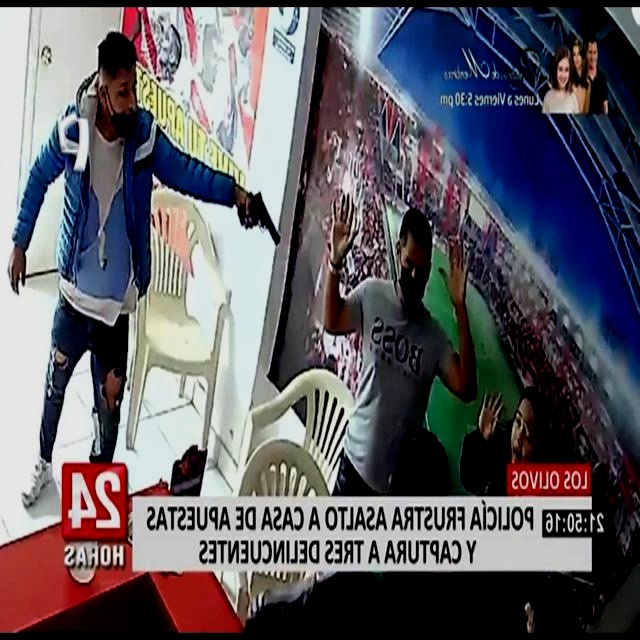gun: (234, 168, 284, 260)
